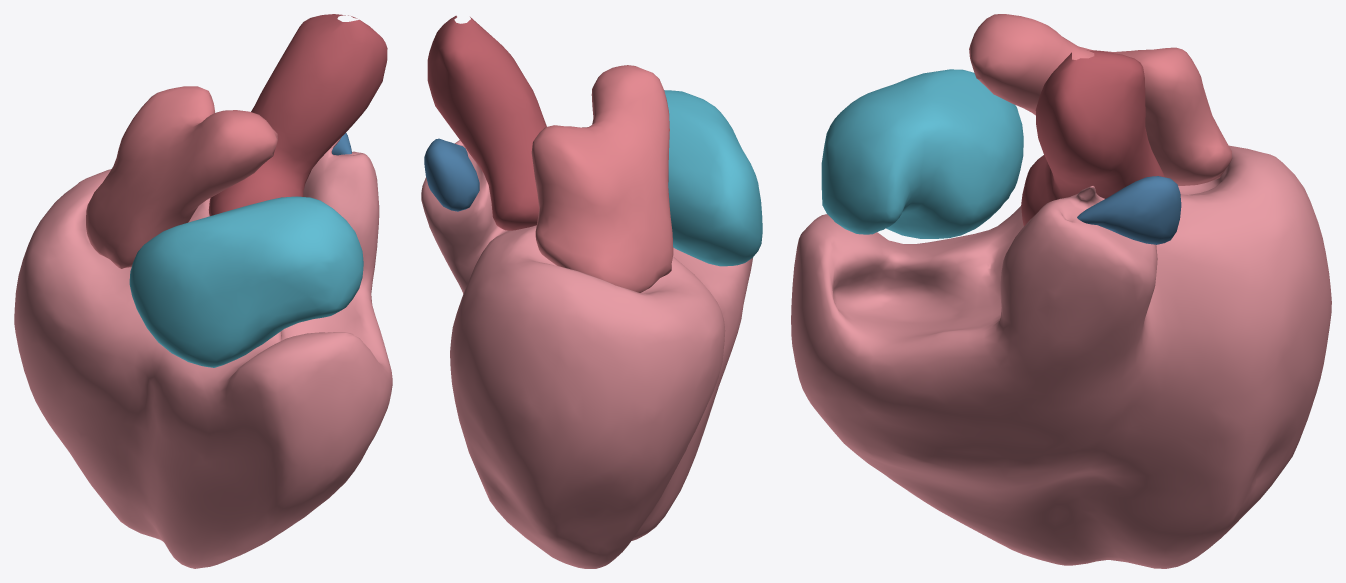
Rendered from frame_22.glb.
3 views of the same model, side by side, from view 1: azimuth 30°, elevation 25°; view 2: azimuth 150°, elevation 25°; view 3: azimuth 270°, elevation 25° (orthographic). The views are drawn at different scales.
Parts seen in each view (by area): view 1: Renderer Node; view 2: Renderer Node; view 3: Renderer Node.
Part boxes in pixels (bbox=[...]): Renderer Node: bbox=[14, 14, 392, 568]; Renderer Node: bbox=[421, 15, 762, 568]; Renderer Node: bbox=[791, 14, 1331, 568].
Bounding box in the file's own units: 106 × 162 × 131.
